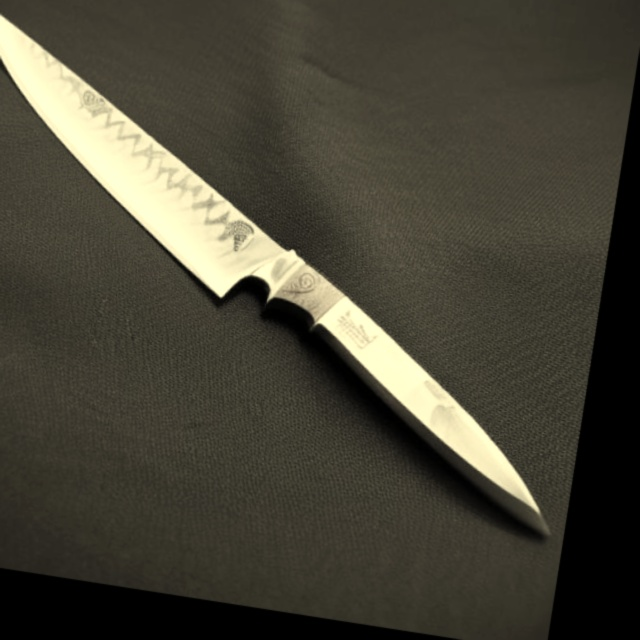Sharp-Object: (0, 0, 634, 561)
